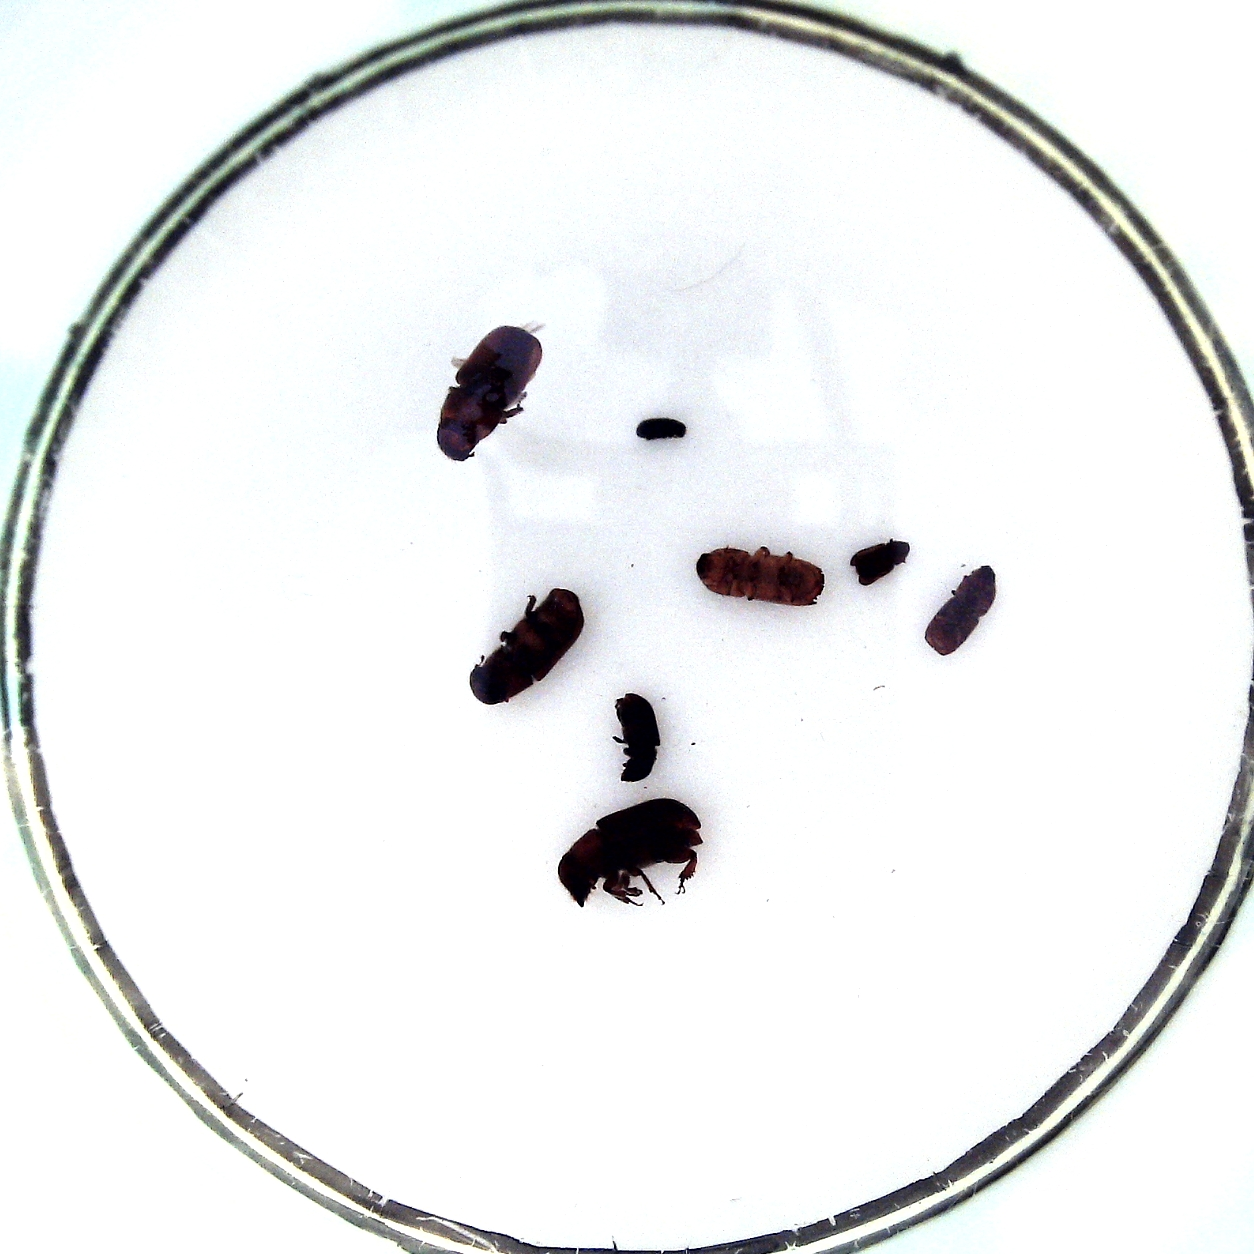Boerner: (696, 545, 825, 606)
Leconte: (557, 799, 704, 907), (436, 326, 543, 463), (469, 588, 585, 705)
acuminatus: (636, 417, 687, 441)
armandi: (614, 692, 667, 781)
coleoptera: (850, 537, 911, 585)
linnaeus: (926, 565, 996, 655)
